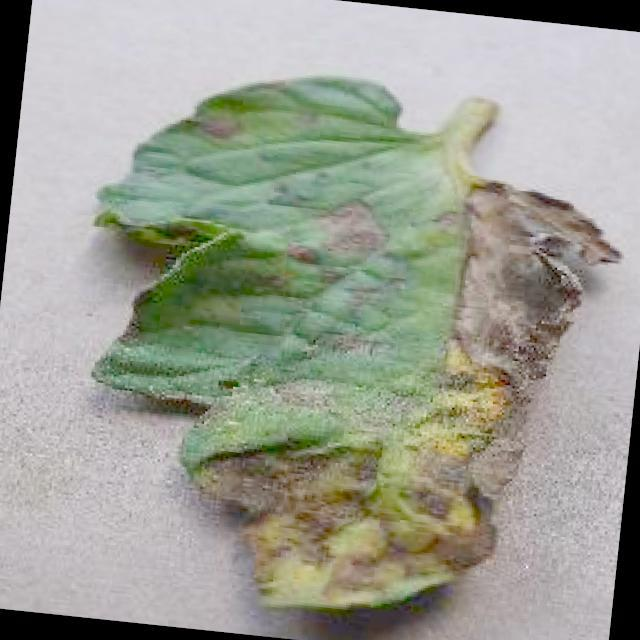Tomato Early blight leaf: (52, 55, 620, 640)
